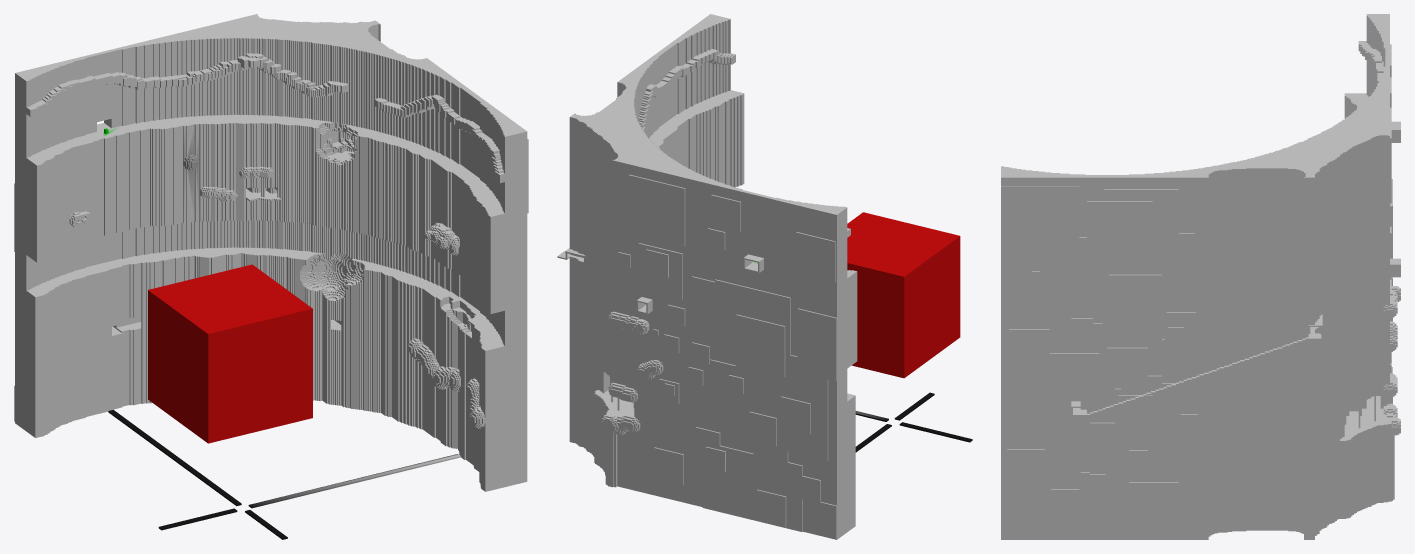
Rendered from levelT.glb.
3 renders of one model, left to right at view 1: azimuth 30°, elevation 25°; view 2: azimuth 150°, elevation 25°; view 3: azimuth 270°, elevation 25°, orthographic. The views are drawn at different scales.
Parts seen in each view (by area): view 1: ThirdFear-1; view 2: ThirdFear-1; view 3: ThirdFear-1.
Part boxes in pixels (x1,y1,x2,y2): ThirdFear-1: (14,14,528,539); ThirdFear-1: (557,14,972,539); ThirdFear-1: (1001,14,1400,539).
Size of the model in its own units: 25.6 by 25.6 by 25.6.
